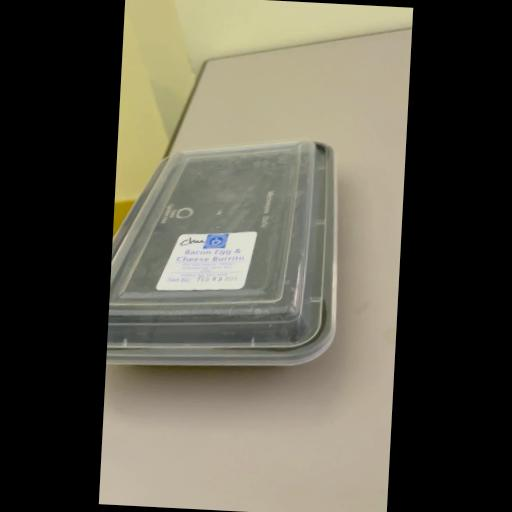rigid_plastic_container: (105, 126, 359, 390)
